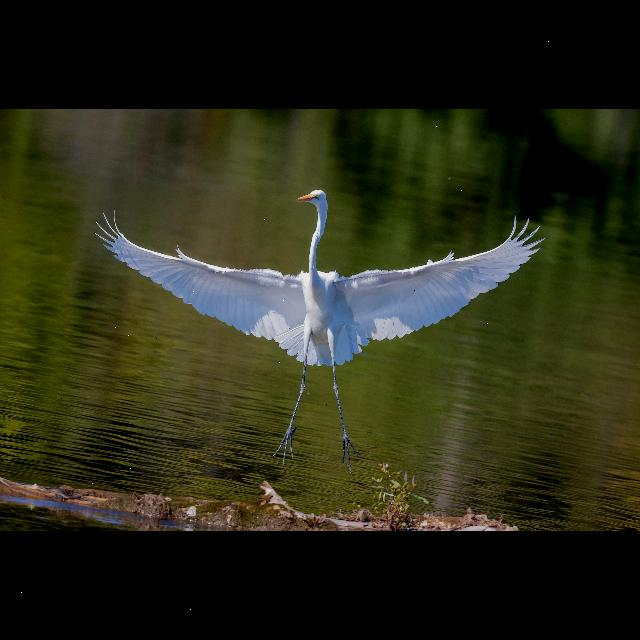egret: (92, 185, 546, 470)
